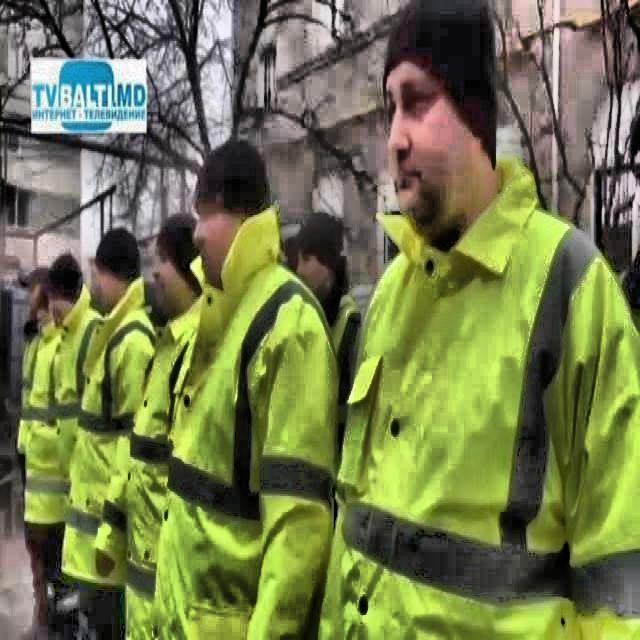safety_jacket: (317, 154, 640, 640), (138, 205, 338, 640), (95, 286, 204, 640), (59, 278, 155, 590), (23, 311, 73, 530)
